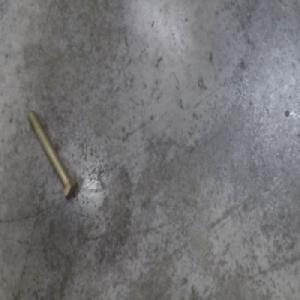Bolt: (26, 105, 78, 202)
